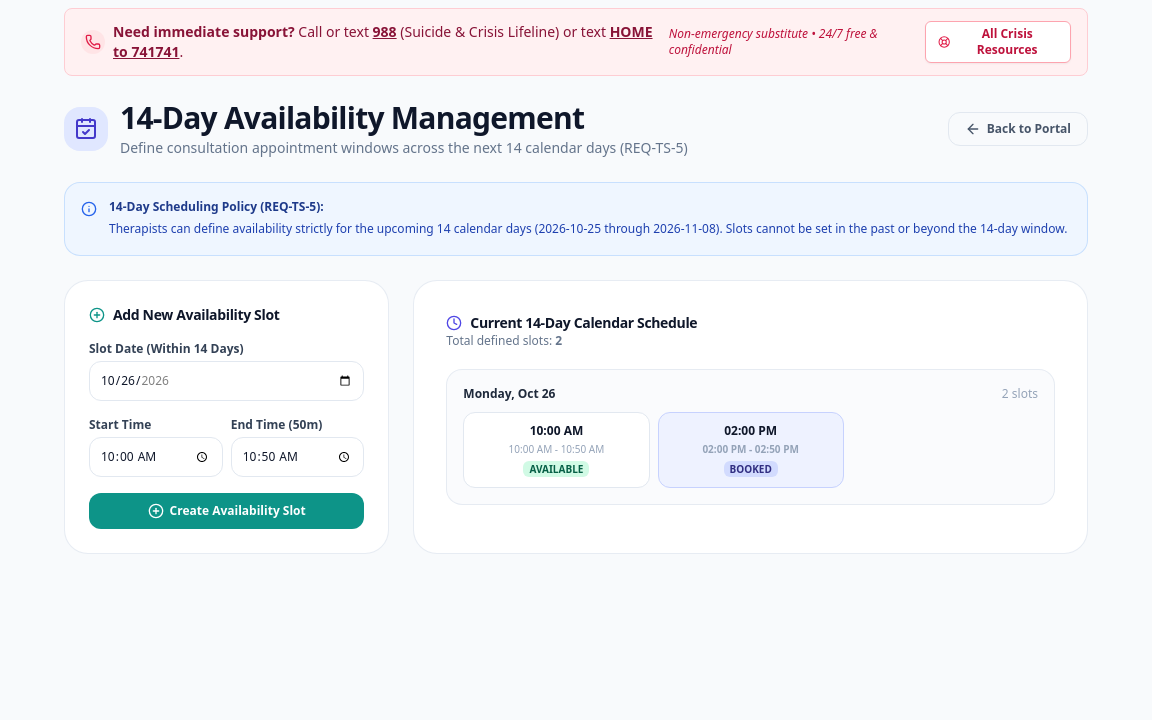
Test: Slot Availability & 14-Day Calendar Management › allows therapist to create a new slot in TherapistAvailabilityPage
Expected: the heading "14-Day Availability Management" is shown, x1=120 y1=97 x2=584 y2=138
Click the button with test id "create-slot-submit-btn" at (227, 511), box x1=89 y1=493 x2=364 y2=529
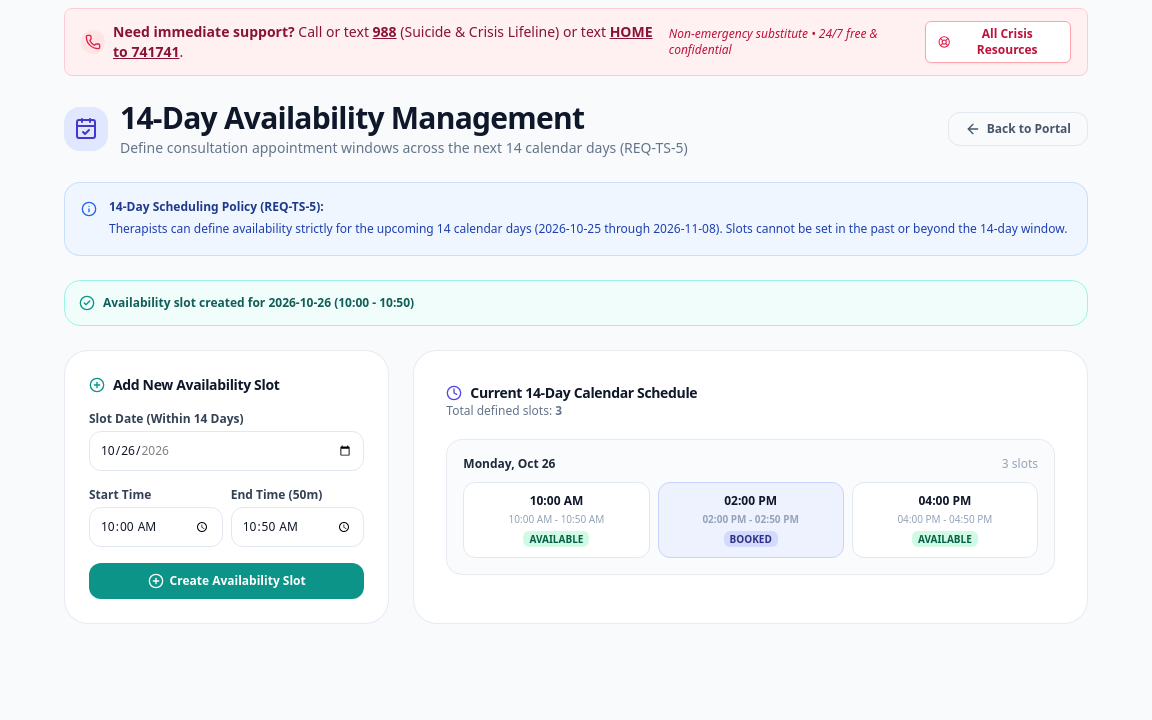
Expected: the element with test id "slot-create-success" is shown, x1=64 y1=280 x2=1088 y2=326
